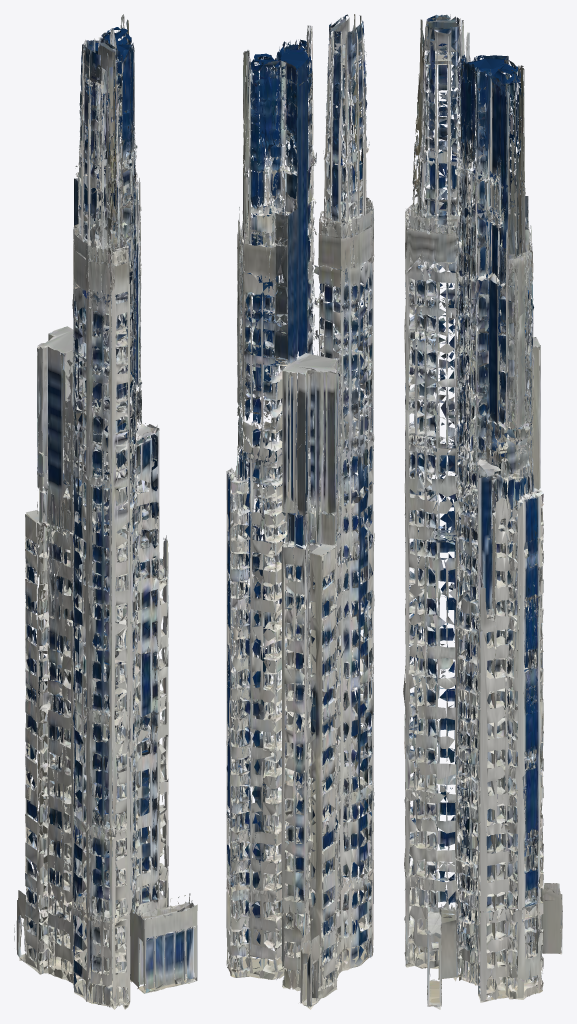
File: 23-marina.glb
3 views of the same model, side by side, from view 1: azimuth 30°, elevation 25°; view 2: azimuth 150°, elevation 25°; view 3: azimuth 270°, elevation 25° (orthographic).
Parts seen in each view (by area): view 1: Mesh_0; view 2: Mesh_0; view 3: Mesh_0.
Part boxes in pixels (x1=…): Mesh_0: x1=14, y1=14, x2=197, y2=1009; Mesh_0: x1=226, y1=14, x2=374, y2=1009; Mesh_0: x1=403, y1=14, x2=562, y2=1009.
Size of the model in its own units: 50 by 393 by 60.
1 material, 1 textured.
